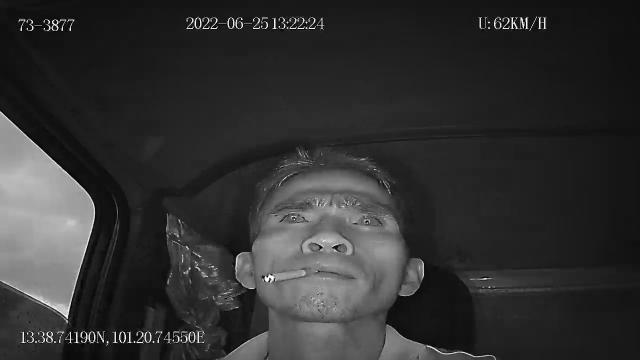SafeDriving: (342, 208, 388, 232), (270, 205, 315, 227)
Smoking: (262, 269, 316, 285)
